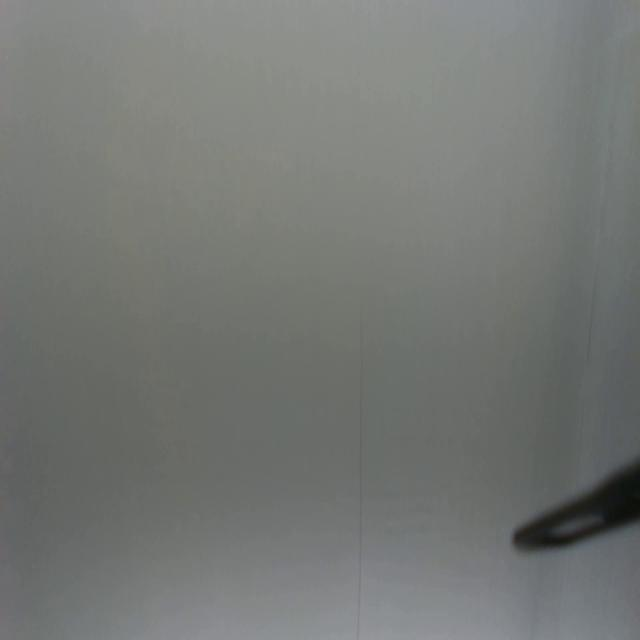crease: (354, 309, 366, 637), (584, 268, 597, 368)
